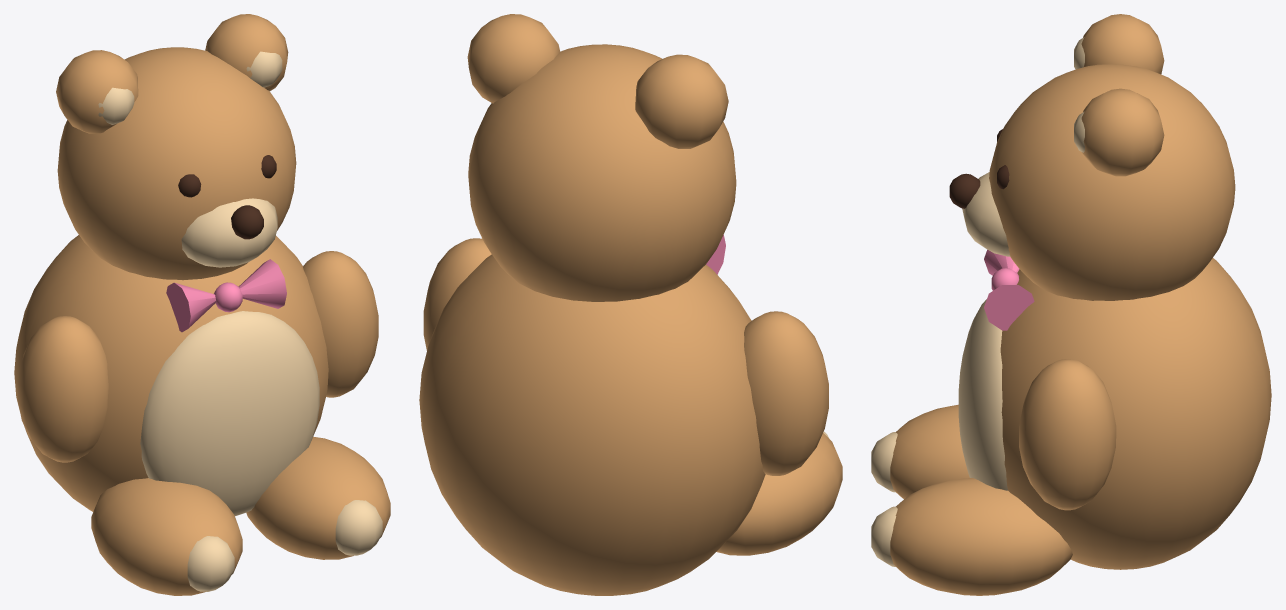
Rendered from plushie.glb.
The picture shows the model from 3 angles, left to right: view 1: azimuth 30°, elevation 25°; view 2: azimuth 150°, elevation 25°; view 3: azimuth 270°, elevation 25°; orthographic projection. The views are drawn at different scales.
Size of the model in its own units: 0.9393 by 1.25 by 0.9069.
